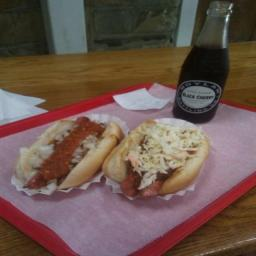hotdog: (139, 177, 167, 206), (26, 174, 57, 194), (121, 175, 139, 203), (71, 113, 93, 128)
